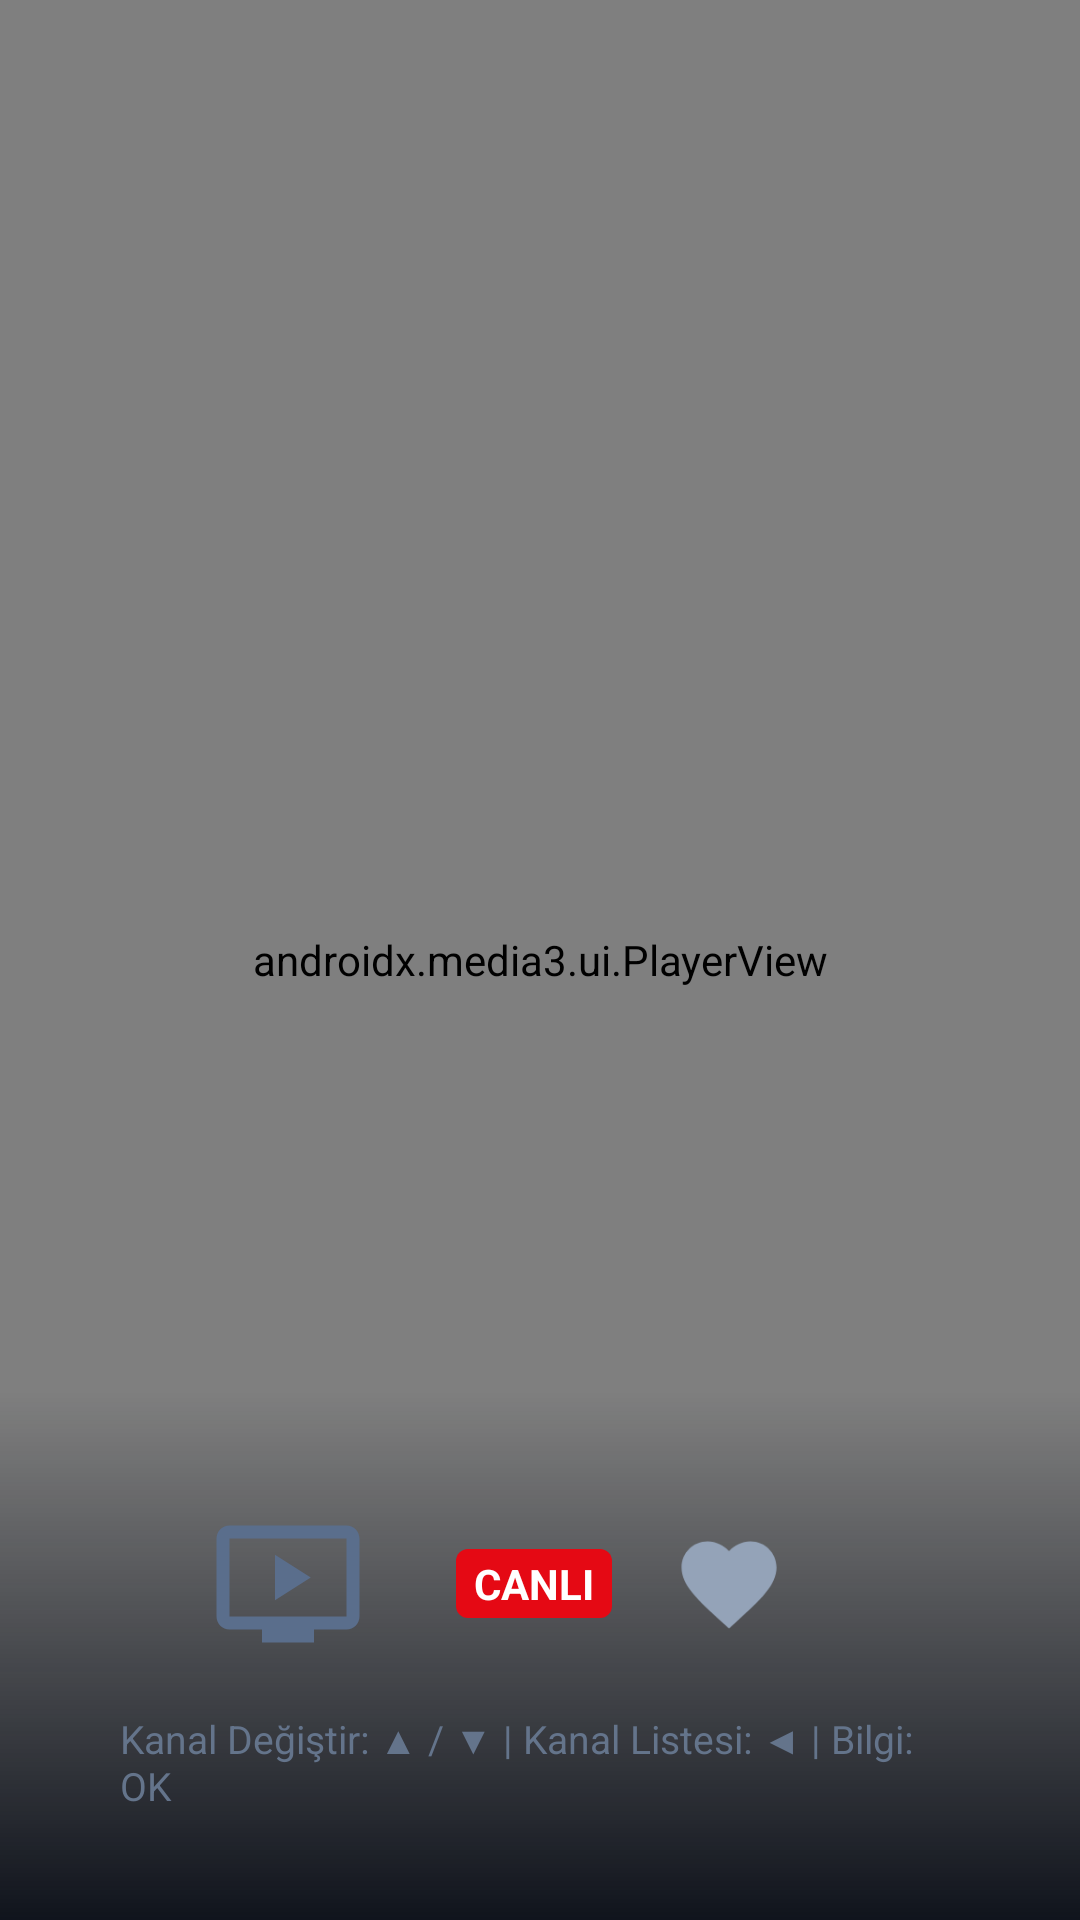

Named icons in this screenshot (1080px x 1920px) and their centers, (x=x, y=y):
heart: (x=729, y=1584)
